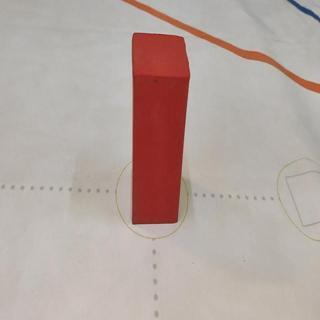redbox: (130, 31, 190, 224)
